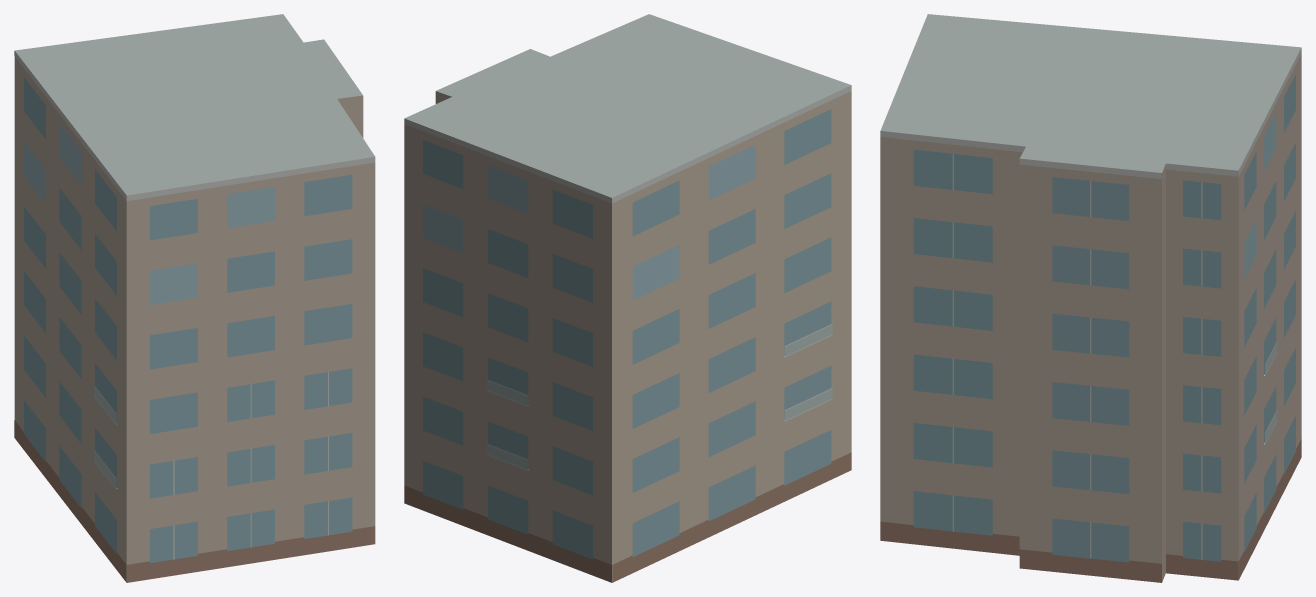
Rendered from survey-upis-32928267.glb.
The picture shows the model from 3 angles, left to right: view 1: azimuth 30°, elevation 25°; view 2: azimuth 150°, elevation 25°; view 3: azimuth 270°, elevation 25°; orthographic projection. The views are drawn at different scales.
Parts seen in each view (by area): view 1: survey-upis-32928267.tmp; view 2: survey-upis-32928267.tmp; view 3: survey-upis-32928267.tmp.
Boxes of the visible parts, x1=… form: survey-upis-32928267.tmp: x1=14, y1=14, x2=375, y2=582; survey-upis-32928267.tmp: x1=404, y1=14, x2=851, y2=582; survey-upis-32928267.tmp: x1=880, y1=14, x2=1301, y2=582.
Bounding box in the file's own units: 13.91 × 16.7 × 15.57.
